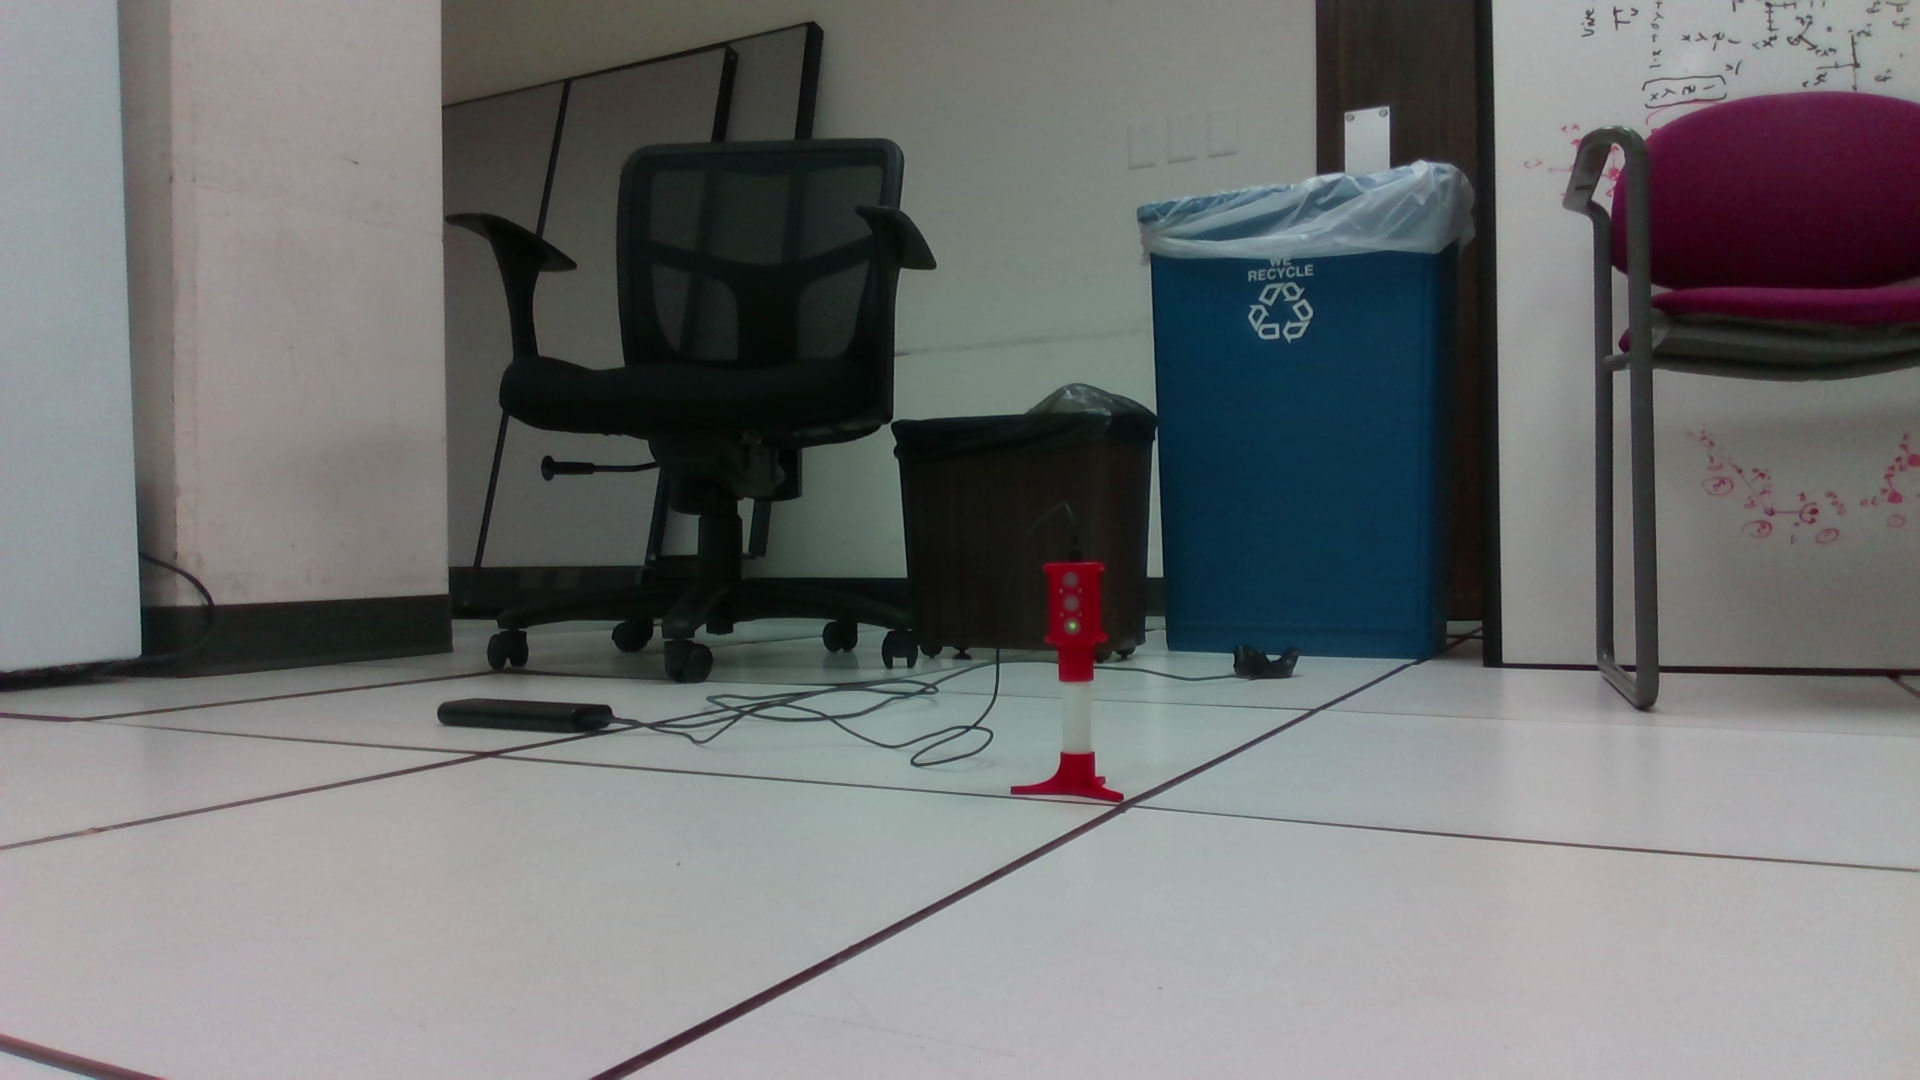stoplight: (1042, 554, 1108, 684)
